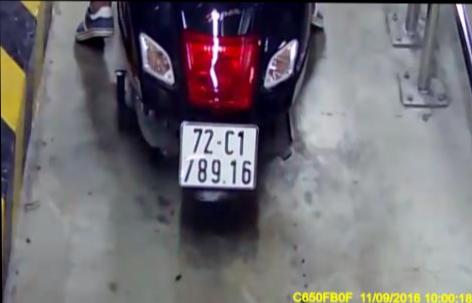LP: (176, 119, 260, 191)
